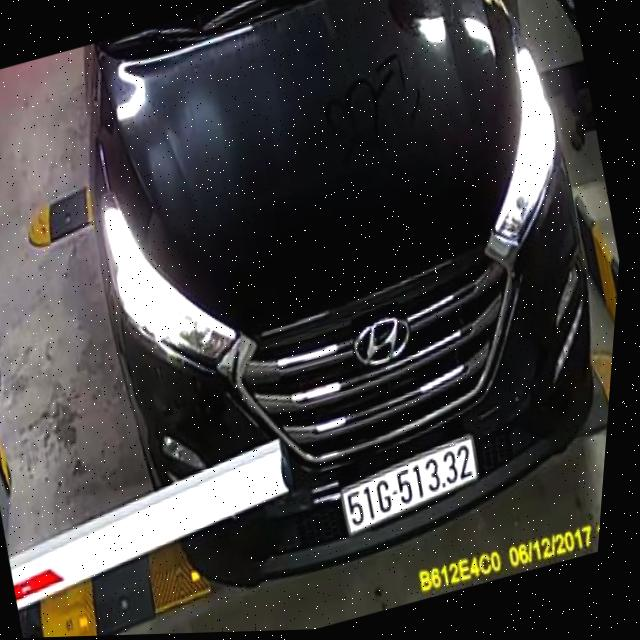car: (19, 0, 640, 618)
plate: (330, 432, 488, 534)
